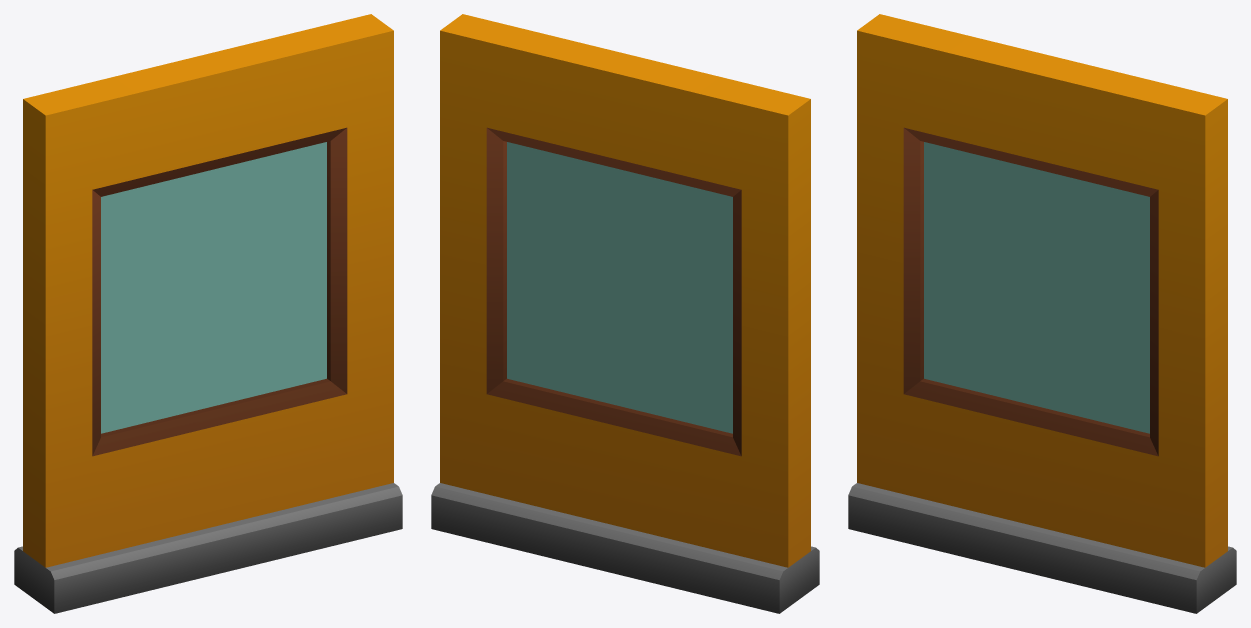
The model's file is Wall_02_B.fbx.
The picture shows the model from 3 angles, left to right: view 1: azimuth 30°, elevation 25°; view 2: azimuth 150°, elevation 25°; view 3: azimuth 330°, elevation 25°; orthographic projection.
Parts seen in each view (by area): view 1: Wall_02; view 2: Wall_02; view 3: Wall_02.
Boxes of the visible parts, x1,y1,x2,y2 form: Wall_02: (14, 14, 402, 613); Wall_02: (431, 14, 819, 613); Wall_02: (848, 14, 1236, 613).
Size of the model in its own units: 200 by 270 by 40.
